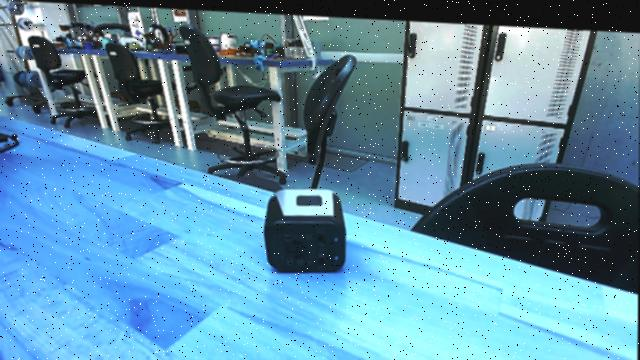adapter: (262, 183, 351, 274)
